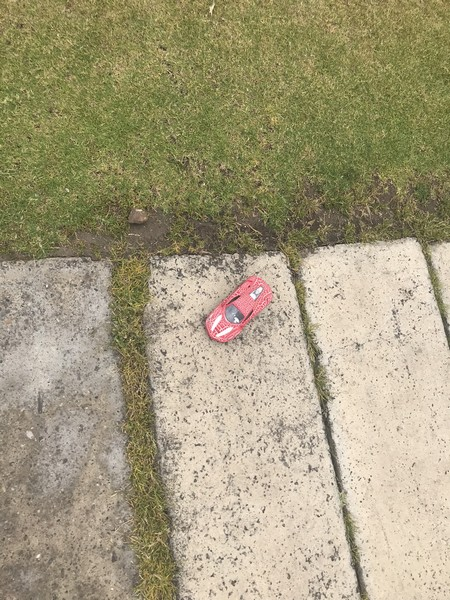RC: (202, 273, 275, 345)
